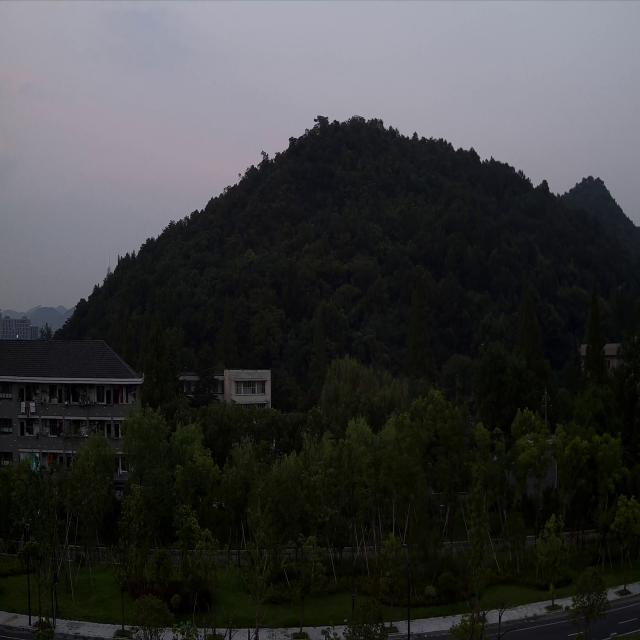UAV: (480, 341, 488, 348)
